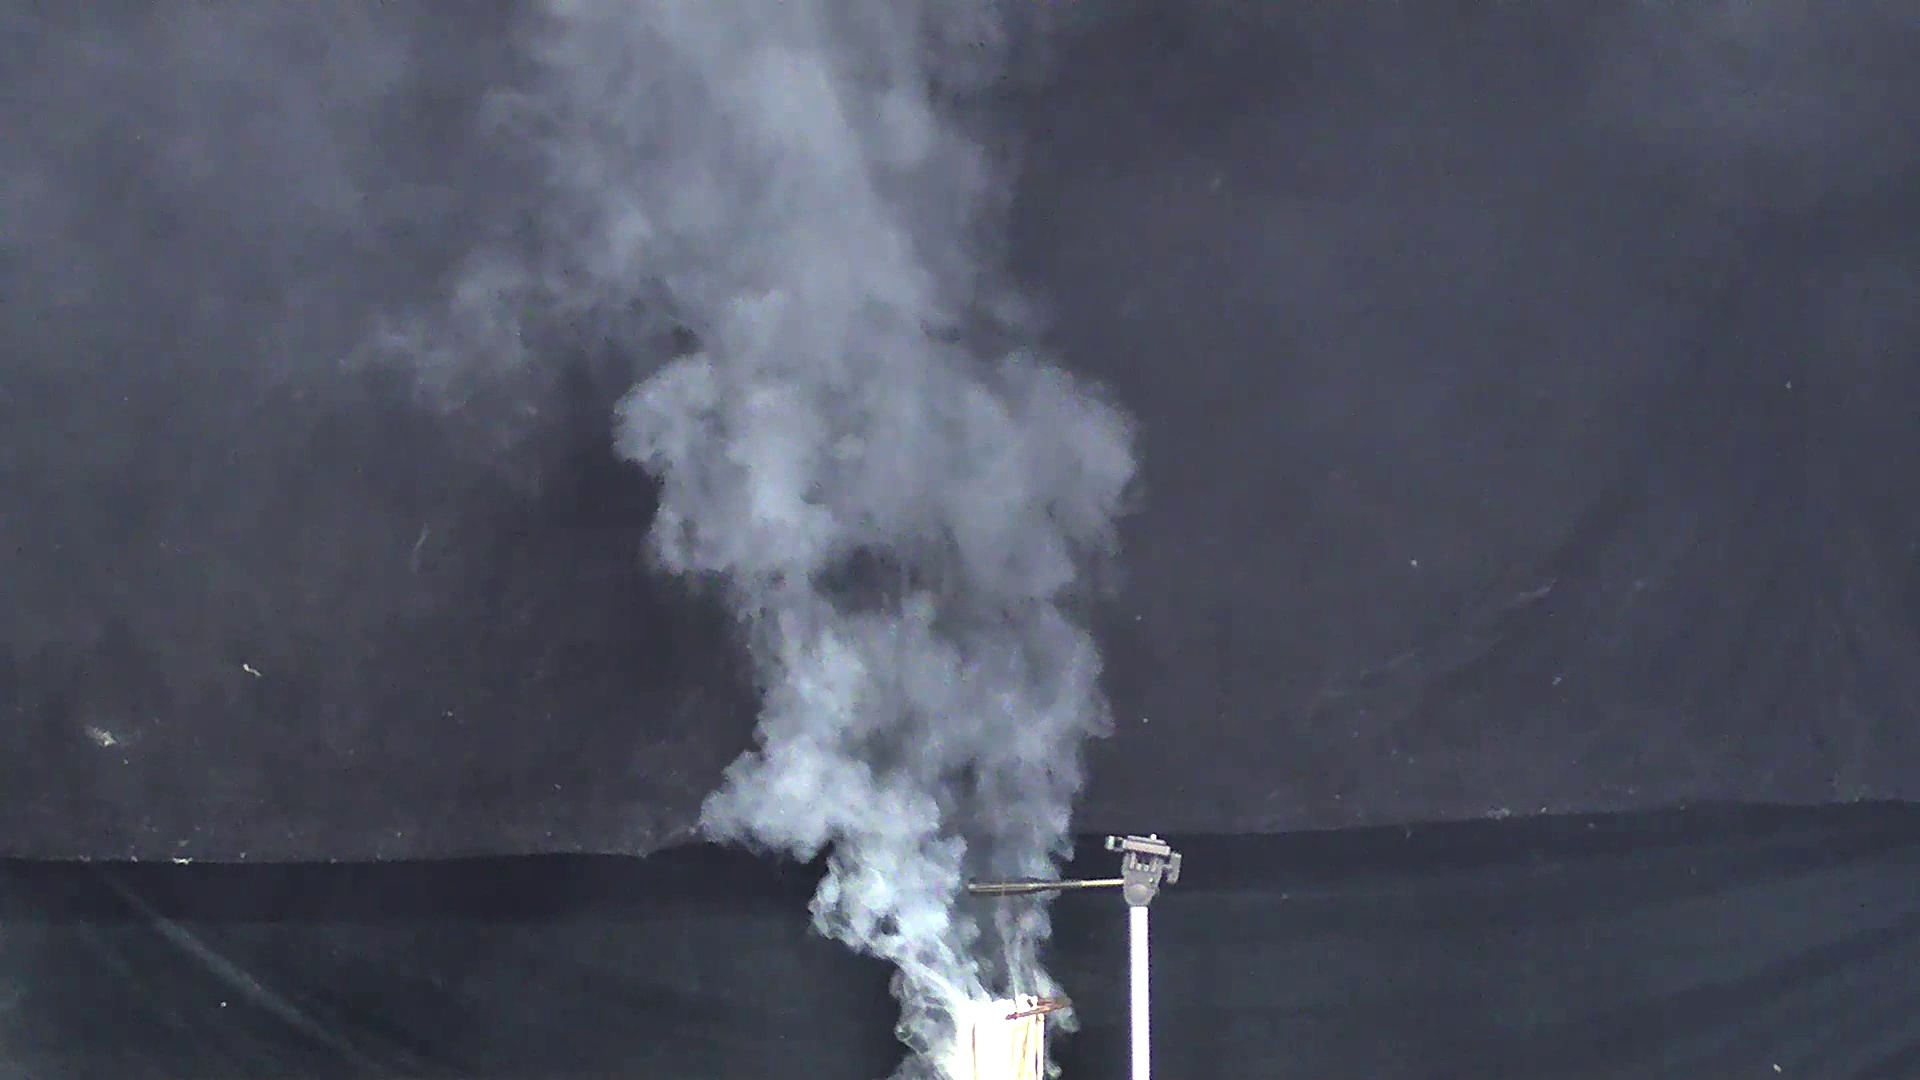smoke: (454, 45, 1124, 980)
